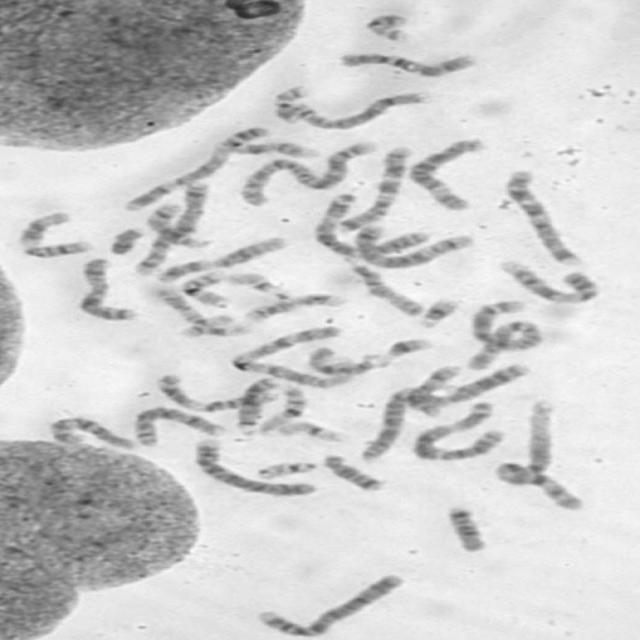A1: (488, 397, 580, 518), (223, 324, 354, 392)
A2: (235, 139, 380, 208), (466, 299, 544, 370)
A3: (298, 188, 431, 255), (408, 399, 504, 463)
B4: (252, 570, 408, 637), (188, 438, 320, 498)
B5: (130, 178, 212, 277), (347, 222, 475, 270)
C10: (333, 48, 482, 78), (45, 415, 138, 451)
C11: (150, 373, 279, 413), (11, 207, 94, 259)
C12: (120, 149, 232, 212), (151, 233, 289, 283)
C6: (353, 388, 448, 463), (404, 135, 486, 212)
C7: (499, 168, 586, 268), (332, 144, 414, 234)
C8: (282, 88, 434, 131), (130, 404, 228, 448)
C9: (494, 257, 601, 304), (212, 124, 320, 161)
D13: (448, 363, 530, 405), (232, 376, 280, 438)
D14: (405, 363, 465, 416), (145, 201, 211, 248)
D15: (341, 260, 425, 318), (303, 345, 391, 376)
E16: (259, 384, 308, 436), (175, 267, 231, 308)
E17: (239, 291, 347, 323), (154, 288, 212, 327)
E18: (318, 451, 387, 493), (441, 505, 489, 553)
F19: (273, 418, 348, 443), (175, 311, 236, 339)
F20: (268, 83, 314, 124), (358, 10, 415, 43)
G21: (412, 296, 460, 330), (380, 336, 435, 360)
G22: (224, 270, 289, 298), (253, 459, 319, 480)
X: (73, 254, 138, 322)
Y: (106, 225, 144, 255)
